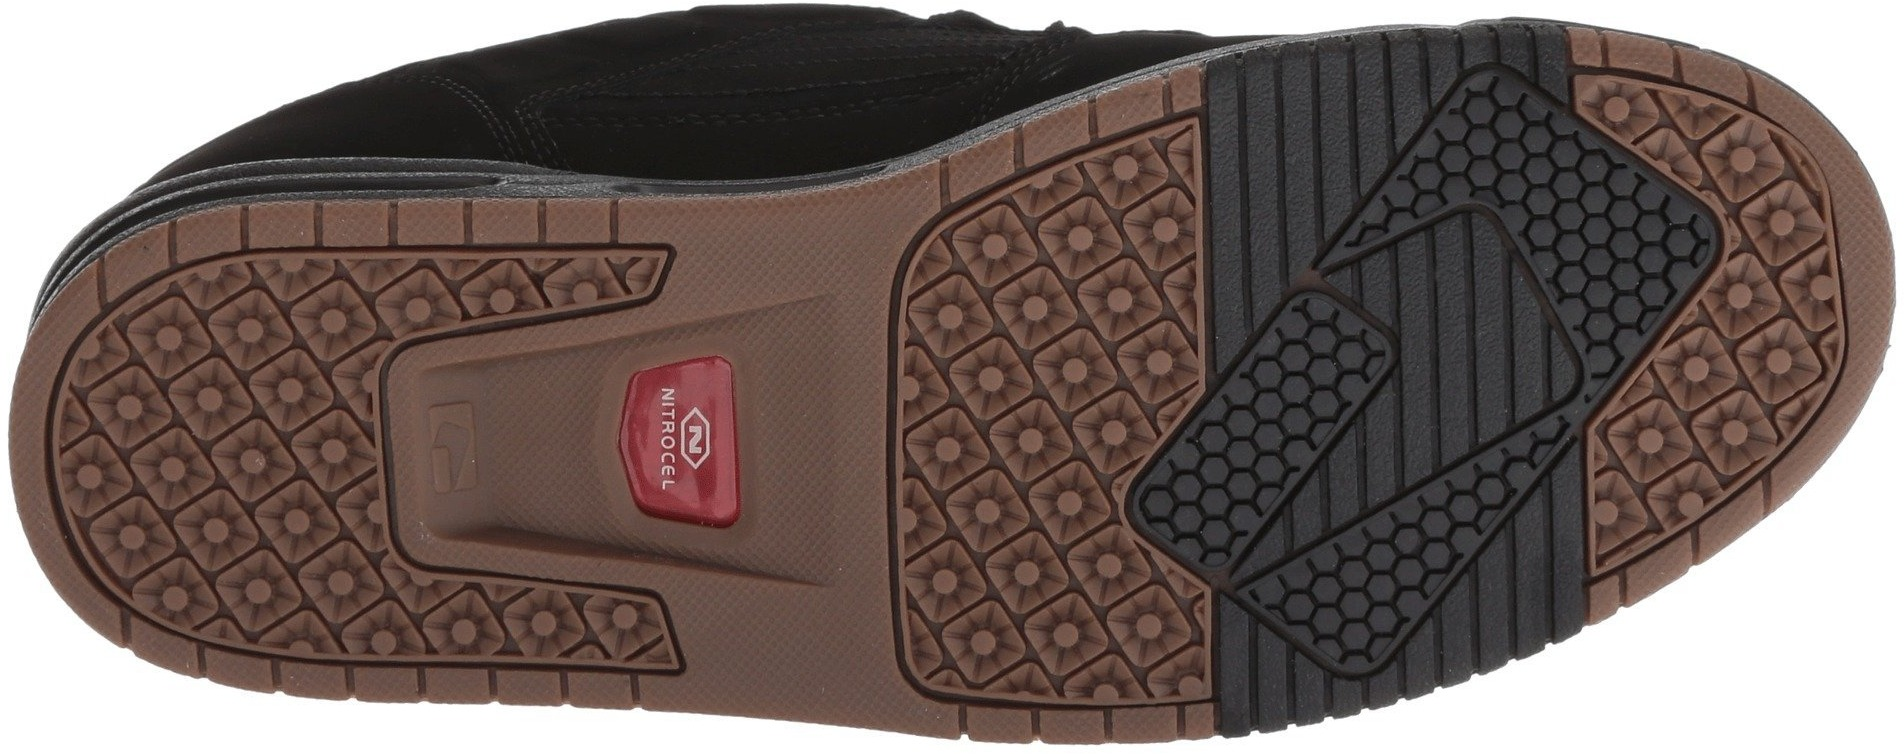circle: (83, 345, 301, 588), (937, 250, 1160, 483), (928, 480, 1132, 695)
line: (928, 480, 1132, 695), (1412, 280, 1538, 415)
other: (704, 593, 829, 713)
polygon: (588, 338, 807, 552), (1554, 177, 1677, 318), (1256, 323, 1359, 426), (1304, 563, 1399, 659), (1178, 444, 1273, 533), (650, 399, 722, 486)
quad: (83, 345, 301, 588), (937, 250, 1160, 483), (928, 480, 1132, 695), (1206, 75, 1371, 221)
star: (83, 345, 301, 588), (937, 250, 1160, 483)
text: (588, 338, 807, 552), (650, 399, 722, 486)
